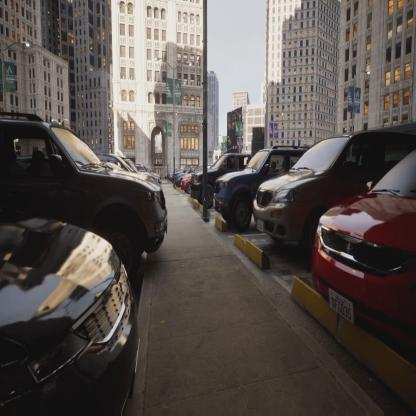License-Plate: (327, 285, 356, 330), (257, 217, 264, 235), (213, 197, 216, 209)
